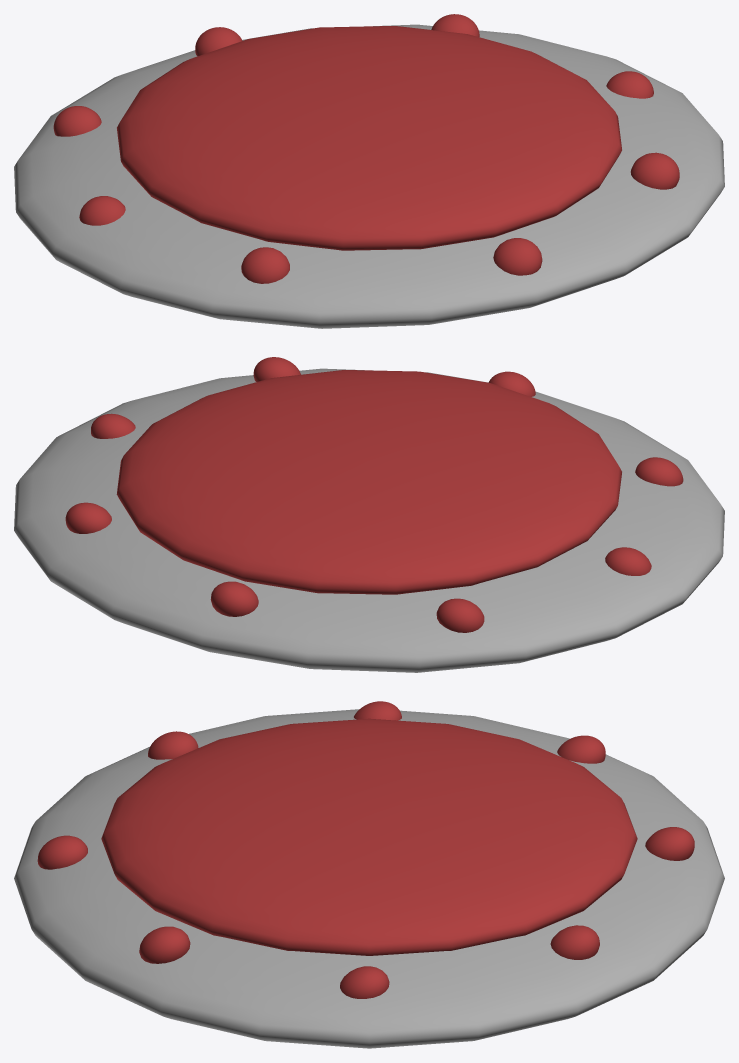
The model's file is teleporter no battery.fbx.
3 renders of one model, top to bottom at view 1: azimuth 30°, elevation 25°; view 2: azimuth 150°, elevation 25°; view 3: azimuth 270°, elevation 25°, orthographic. The views are drawn at different scales.
Visible parts, largest first — view 1: pSphere2, pSphere3, nurbsSphere3; view 2: pSphere2, pSphere3, nurbsSphere3; view 3: pSphere2, pSphere3, nurbsSphere3.
Part boxes in pixels (x1=…): pSphere2: x1=117, y1=26, x2=621, y2=250; pSphere3: x1=14, y1=24, x2=724, y2=328; nurbsSphere3: x1=53, y1=14, x2=679, y2=283; pSphere2: x1=116, y1=370, x2=621, y2=594; pSphere3: x1=14, y1=368, x2=724, y2=672; nurbsSphere3: x1=65, y1=357, x2=683, y2=632; pSphere2: x1=101, y1=718, x2=637, y2=955; pSphere3: x1=14, y1=709, x2=724, y2=1048; nurbsSphere3: x1=37, y1=701, x2=694, y2=998.
Bounding box in the file's own units: 5.12 × 0.9325 × 4.71.
